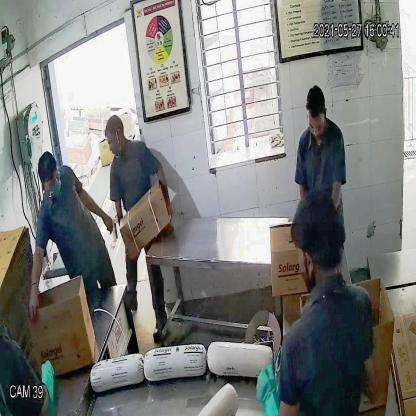no_goggles: (306, 114, 328, 134)
